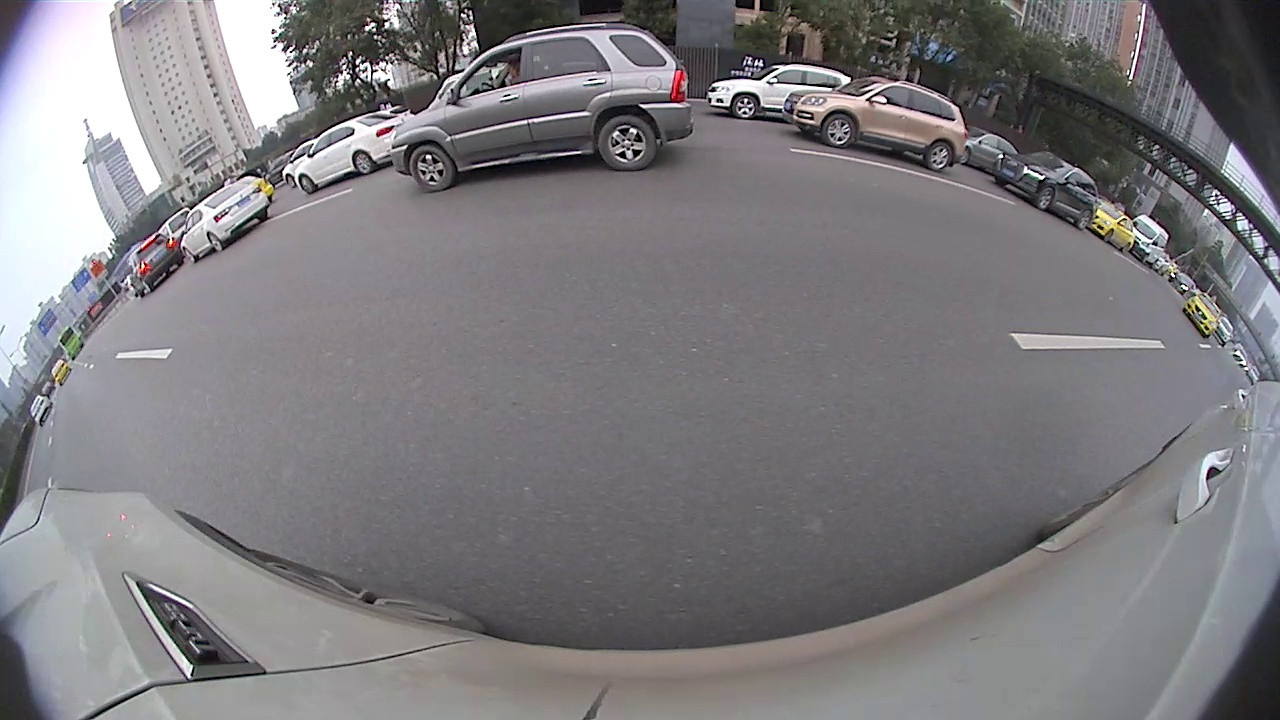car: (389, 21, 694, 193), (781, 77, 968, 172), (293, 112, 405, 195), (991, 150, 1099, 232), (706, 63, 856, 120), (179, 182, 272, 266), (125, 231, 187, 301), (1086, 203, 1136, 254), (1127, 213, 1170, 270), (1182, 292, 1221, 340)
front: (410, 148, 455, 192), (822, 116, 855, 149), (731, 96, 757, 118), (1038, 187, 1056, 211), (182, 248, 198, 265), (300, 176, 315, 193), (285, 175, 296, 187)
rear: (601, 118, 653, 169), (927, 141, 952, 172), (353, 154, 371, 175), (1077, 212, 1093, 231), (208, 232, 221, 250)
